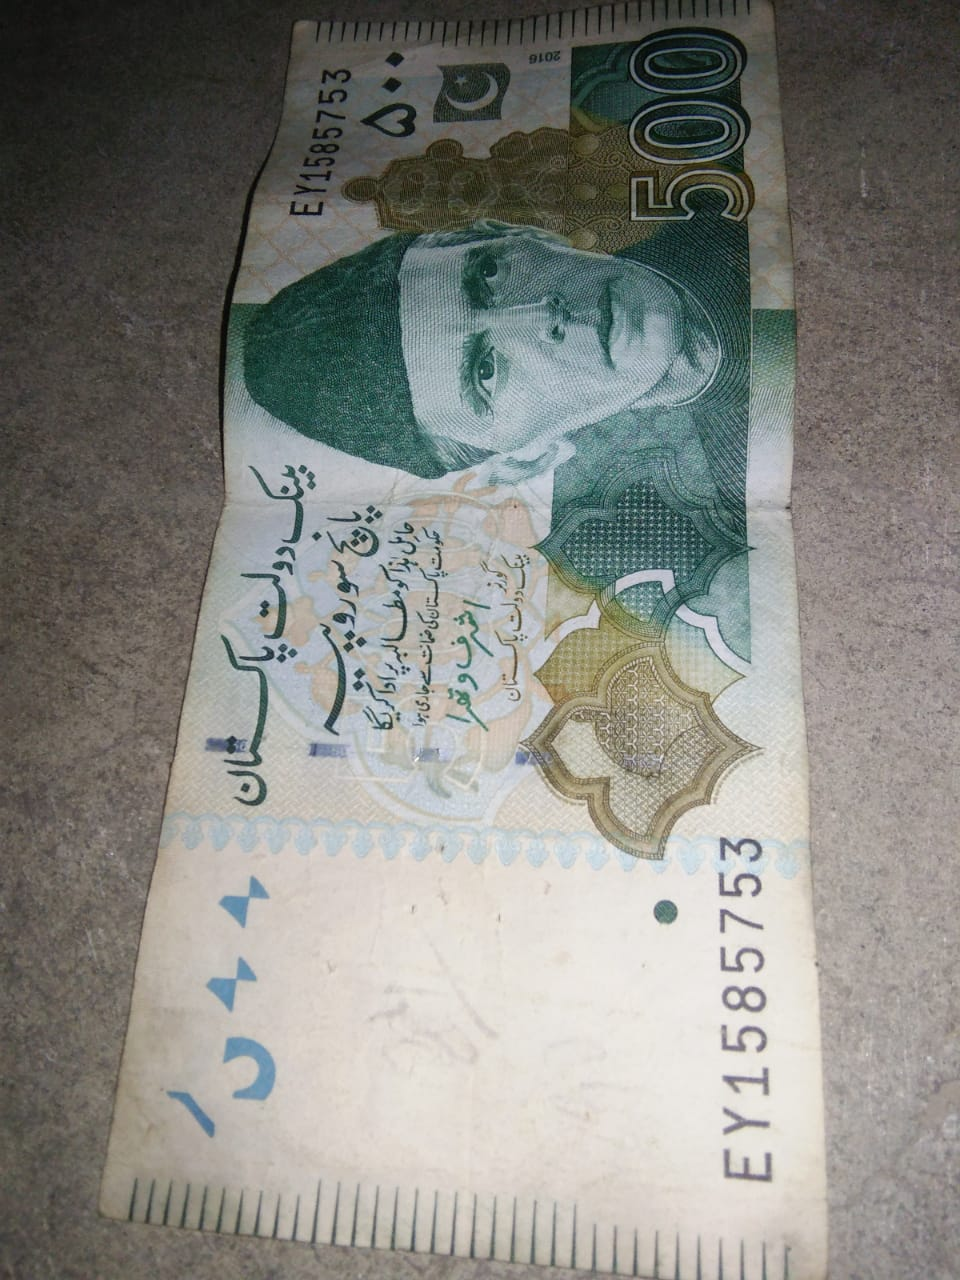500 rupee: (137, 14, 848, 1277)
